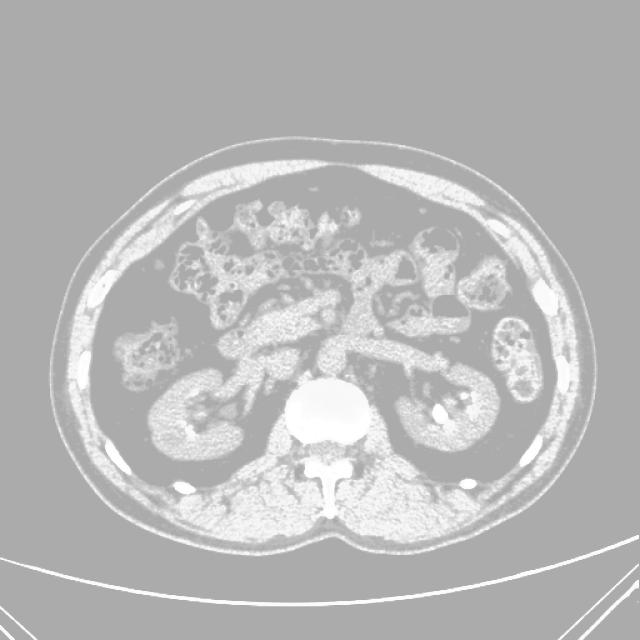STONE: (154, 284, 525, 477)
